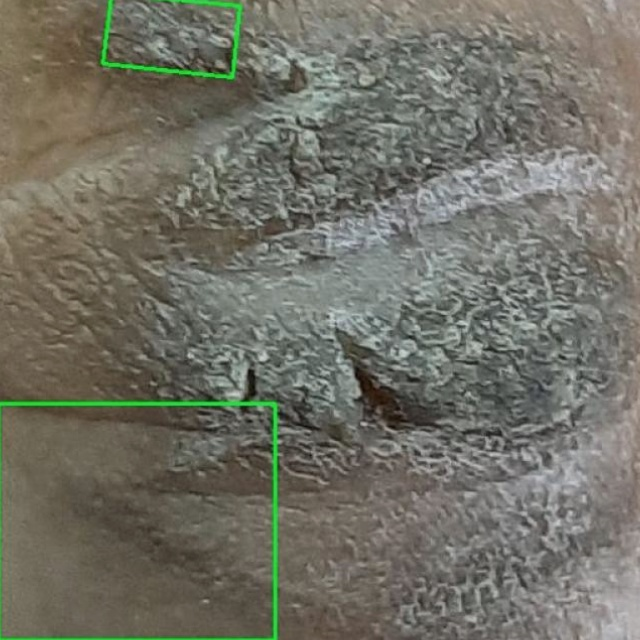Contact Dermatitis: (0, 404, 275, 639), (102, 0, 239, 78)
